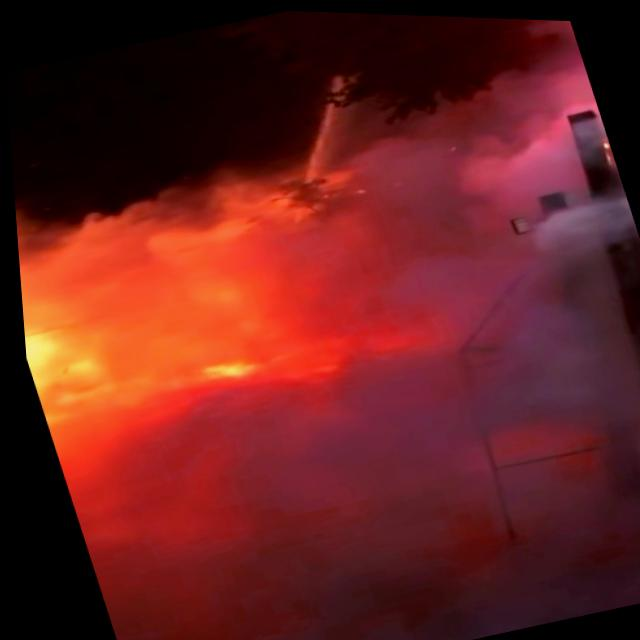fire: (17, 294, 117, 423)
smoke: (50, 344, 640, 640), (245, 407, 640, 640)
